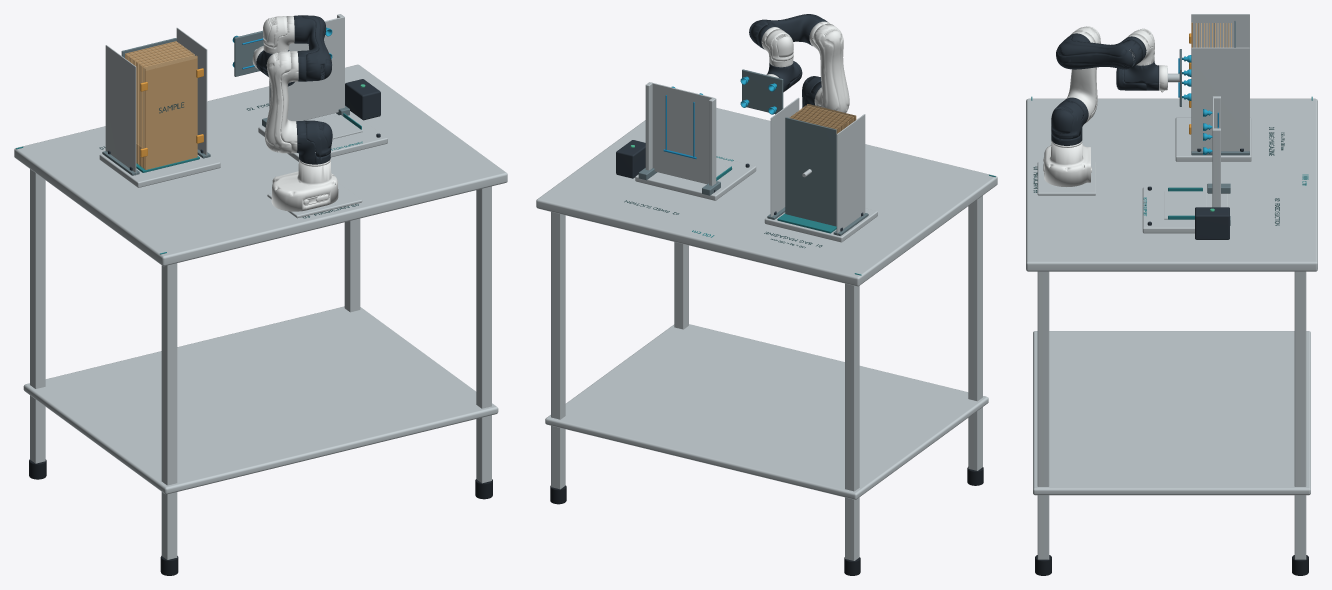
Rendered from me6-station.glb.
3 renders of one model, left to right at view 1: azimuth 30°, elevation 25°; view 2: azimuth 150°, elevation 25°; view 3: azimuth 270°, elevation 25°, orthographic. The views are drawn at different scales.
Parts seen in each view (by area): view 1: Lower solid shelf, Solid stainless worktop, Front paper face, Square steel leg, Square steel leg.002, Square steel leg.001, Magazine adjustable side guide, Fixed vacuum plate, me6_bag_robot / Link2 visual, me6_bag_robot / base_link visual, me6_bag_robot / Link3 visual, Square steel leg.003 (+8 smaller); view 2: Lower solid shelf, Solid stainless worktop, Light spring follower, Fixed vacuum plate, Square steel leg.001, Square steel leg.003, Square steel leg, Magazine adjustable side guide, me6_bag_robot / Link2 visual, Magazine adjustable side guide.001, Fixed station bolted base, Lightweight four-cup mounting plate (+7 smaller); view 3: Lower solid shelf, Solid stainless worktop, Magazine adjustable side guide.001, Square steel leg.002, Square steel leg.003, me6_bag_robot / Link3 visual, me6_bag_robot / base_link visual, Magazine adjustable side guide, Fixed station bolted base, me6_bag_robot / Link1 visual, me6_bag_robot / Link2 visual, Magazine bolted base (+6 smaller).
Boxes of the visible parts, x1,y1,x2,y2 form: Lower solid shelf: (23, 306, 498, 494); Solid stainless worktop: (14, 64, 507, 266); Front paper face: (145, 58, 197, 169); Square steel leg: (161, 263, 177, 559); Square steel leg.002: (476, 186, 491, 483); Square steel leg.001: (30, 169, 45, 463); Magazine adjustable side guide: (105, 45, 136, 175); Fixed vacuum plate: (287, 17, 343, 121); me6_bag_robot / Link2 visual: (265, 51, 298, 153); me6_bag_robot / base_link visual: (271, 152, 338, 211); me6_bag_robot / Link3 visual: (293, 15, 331, 81); Square steel leg.003: (344, 218, 360, 312); Lower solid shelf: (545, 324, 988, 499); Solid stainless worktop: (536, 108, 997, 286); Light spring follower: (785, 117, 836, 226); Fixed vacuum plate: (651, 82, 712, 184); Square steel leg.001: (845, 283, 859, 560); Square steel leg.003: (551, 212, 565, 489); Square steel leg: (968, 195, 982, 470); Magazine adjustable side guide: (836, 114, 865, 235); me6_bag_robot / Link2 visual: (809, 21, 849, 112); Magazine adjustable side guide.001: (770, 97, 799, 217); Fixed station bolted base: (635, 156, 756, 200); Lightweight four-cup mounting plate: (742, 69, 783, 114); Lower solid shelf: (1033, 331, 1310, 495); Solid stainless worktop: (1026, 98, 1317, 271); Magazine adjustable side guide.001: (1191, 47, 1249, 151); Square steel leg.002: (1037, 271, 1049, 559); Square steel leg.003: (1294, 271, 1306, 559); me6_bag_robot / Link3 visual: (1056, 33, 1146, 69); me6_bag_robot / base_link visual: (1043, 140, 1091, 186); Magazine adjustable side guide: (1191, 14, 1249, 47); Fixed station bolted base: (1142, 187, 1228, 233); me6_bag_robot / Link1 visual: (1051, 97, 1088, 145); me6_bag_robot / Link2 visual: (1065, 26, 1100, 123); Magazine bolted base: (1175, 117, 1251, 161).
Size of the model in its own units: 1 by 1.33 by 0.75.
